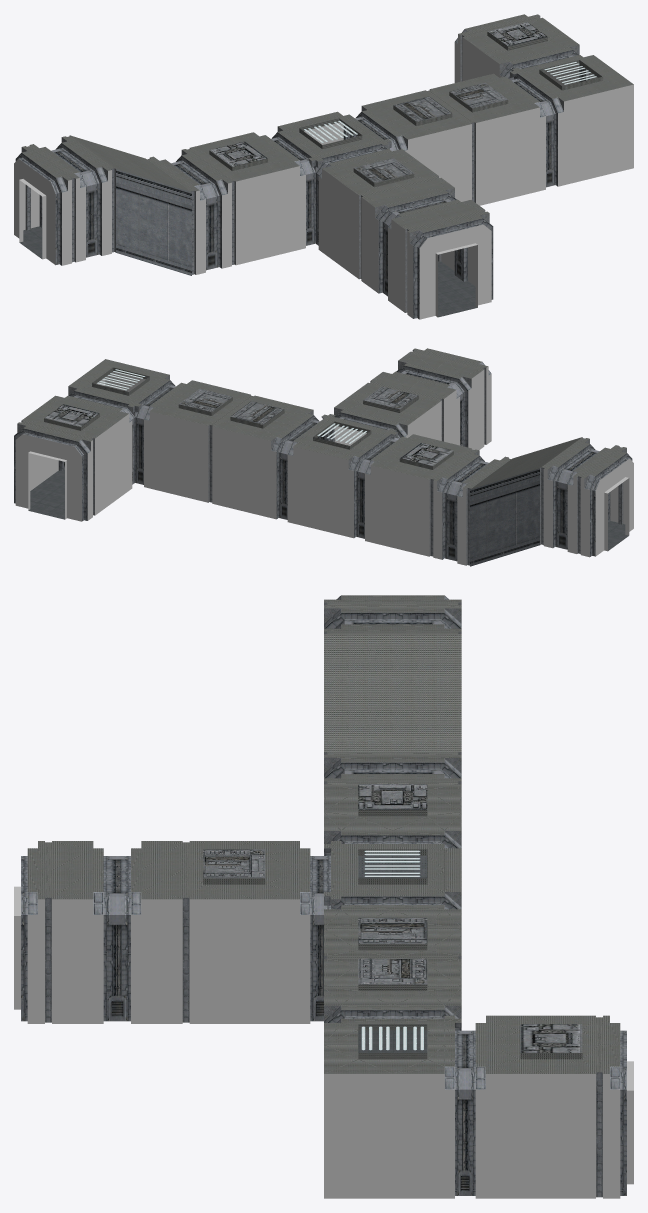
File: poi_all_impl_bunker_warren_s01_r12_hall12_mesh_r12.fbx
3 views of the same model, one above another, from view 1: azimuth 30°, elevation 25°; view 2: azimuth 150°, elevation 25°; view 3: azimuth 270°, elevation 25° (orthographic). The views are drawn at different scales.
Parts seen in each view (by area): view 1: mesh_node; view 2: mesh_node; view 3: mesh_node.
Part boxes in pixels (bbox=[...]): mesh_node: bbox=[14, 14, 633, 319]; mesh_node: bbox=[14, 348, 633, 566]; mesh_node: bbox=[14, 595, 633, 1198].
Bounding box in the file's own units: 29 × 6 × 18.
